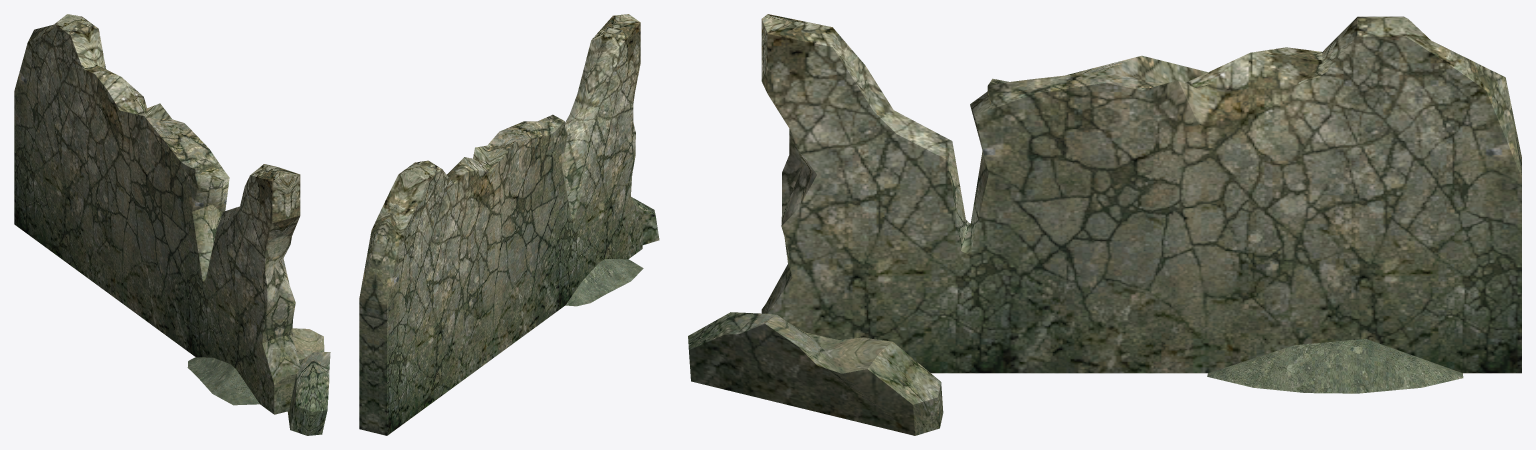
Rendered from thm_nboo_gungan_wall_ruined_lg_s02_l0.fbx.
The picture shows the model from 3 angles, left to right: view 1: azimuth 30°, elevation 25°; view 2: azimuth 150°, elevation 25°; view 3: azimuth 270°, elevation 25°; orthographic projection. The views are drawn at different scales.
Parts seen in each view (by area): view 1: mesh_node; view 2: mesh_node; view 3: mesh_node.
Boxes of the visible parts, x1,y1,x2,y2 form: mesh_node: [14, 14, 330, 435]; mesh_node: [359, 14, 659, 435]; mesh_node: [688, 14, 1521, 435].
Size of the model in its own units: 2.15 by 4.2 by 8.78.
